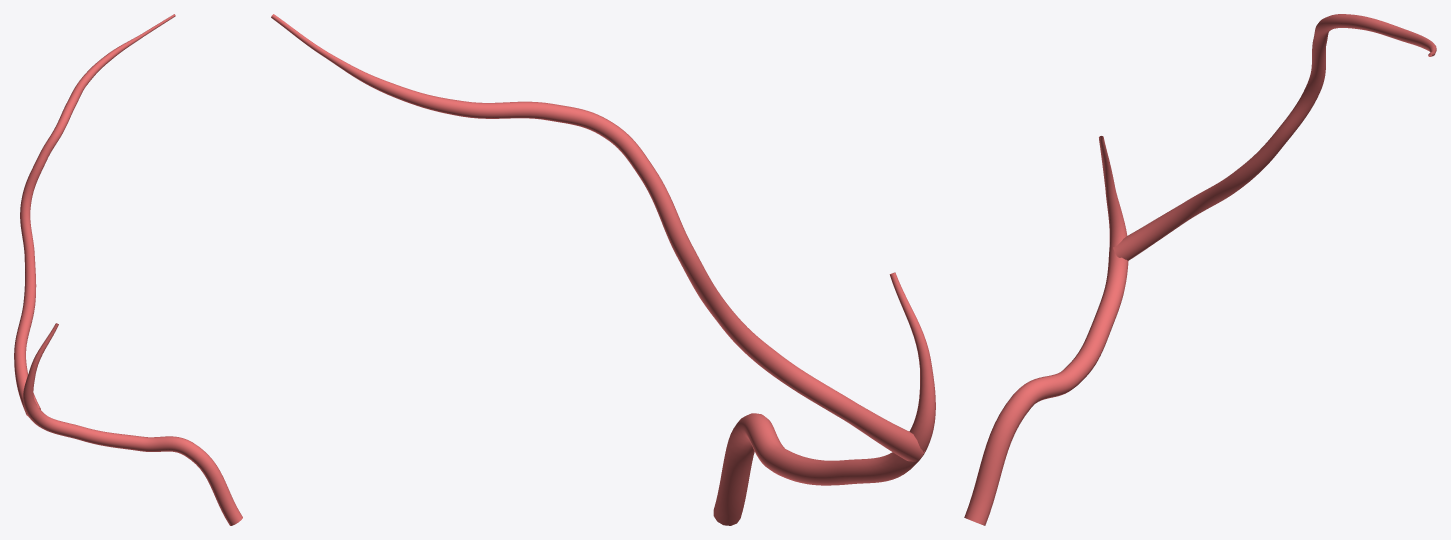
The model's file is Anterior_parietal_artery.r_BezierCurve.153.glb.
3 views of the same model, side by side, from view 1: azimuth 30°, elevation 25°; view 2: azimuth 150°, elevation 25°; view 3: azimuth 270°, elevation 25° (orthographic). The views are drawn at different scales.
Visible parts, largest first — view 1: Anterior_parietal_artery.r_BezierCurve.153; view 2: Anterior_parietal_artery.r_BezierCurve.153; view 3: Anterior_parietal_artery.r_BezierCurve.153.
Boxes of the visible parts, bbox=[...] form: Anterior_parietal_artery.r_BezierCurve.153: bbox=[14, 14, 242, 525]; Anterior_parietal_artery.r_BezierCurve.153: bbox=[271, 14, 935, 525]; Anterior_parietal_artery.r_BezierCurve.153: bbox=[964, 14, 1436, 525].
Bounding box in the file's own units: 0.0343 × 0.0471 × 0.0373.
